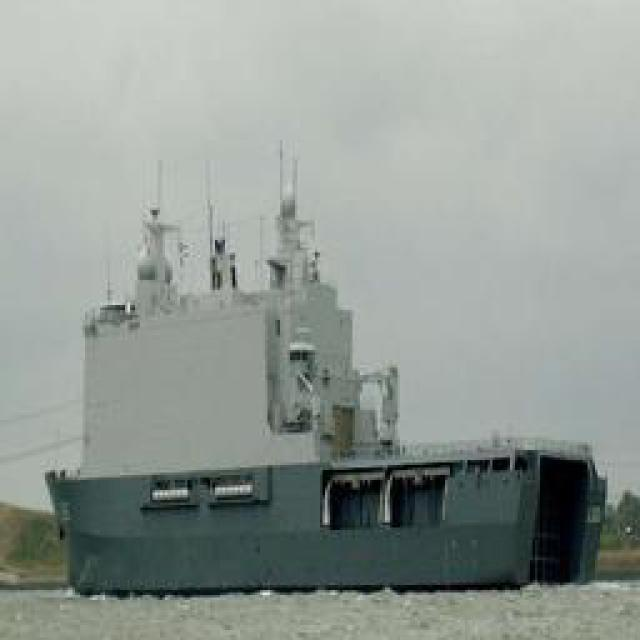Ship: (51, 100, 599, 590)
